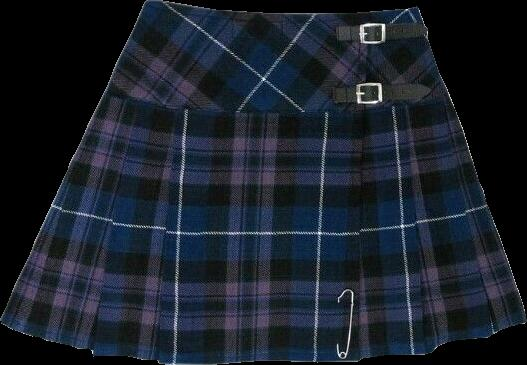Hemline: (0, 319, 526, 364)
Waistline: (105, 89, 452, 117), (146, 0, 419, 16)
